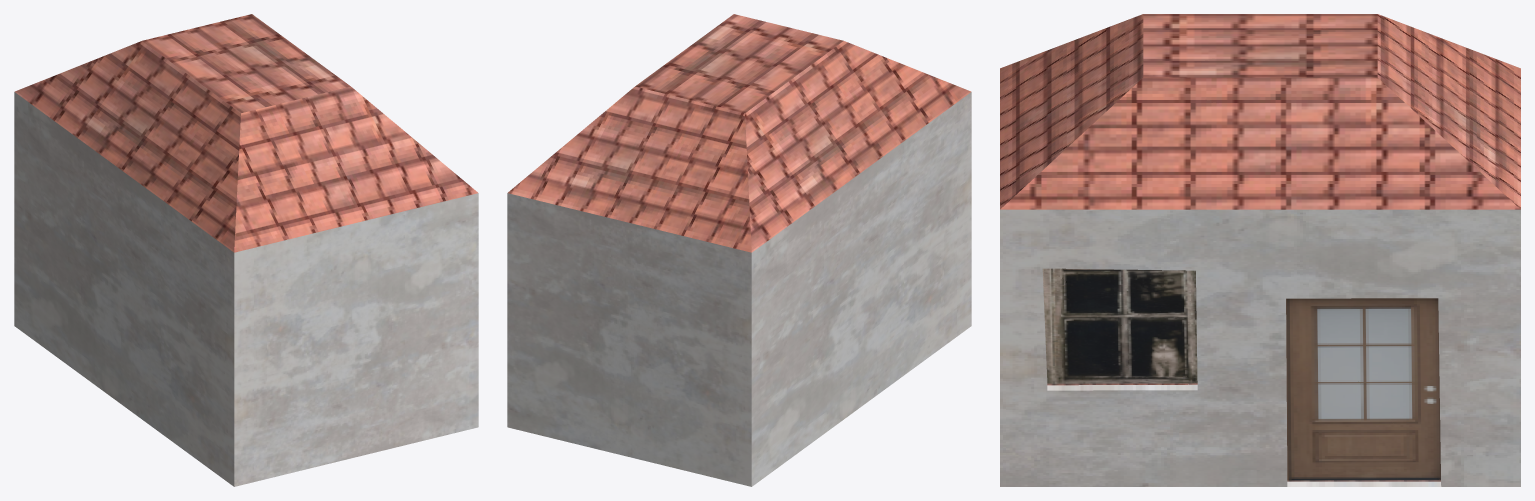
Rendered from House10.fbx.
The picture shows the model from 3 angles, left to right: view 1: azimuth 30°, elevation 25°; view 2: azimuth 150°, elevation 25°; view 3: azimuth 270°, elevation 25°; orthographic projection. The views are drawn at different scales.
Visible parts, largest first — view 1: Cube; view 2: Cube; view 3: Cube.
Part boxes in pixels (x1=…): Cube: x1=14, y1=14, x2=478, y2=486; Cube: x1=507, y1=14, x2=971, y2=486; Cube: x1=1000, y1=14, x2=1520, y2=486.
Size of the model in its own units: 4608 by 5637 by 7180.
Materials: 1 (1 with a texture image).
